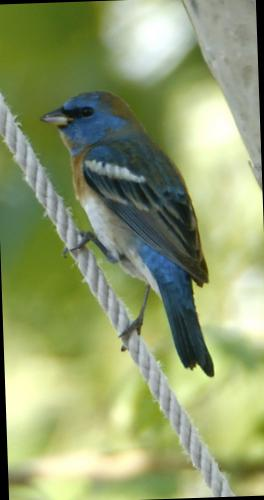bird: (26, 66, 241, 398)
